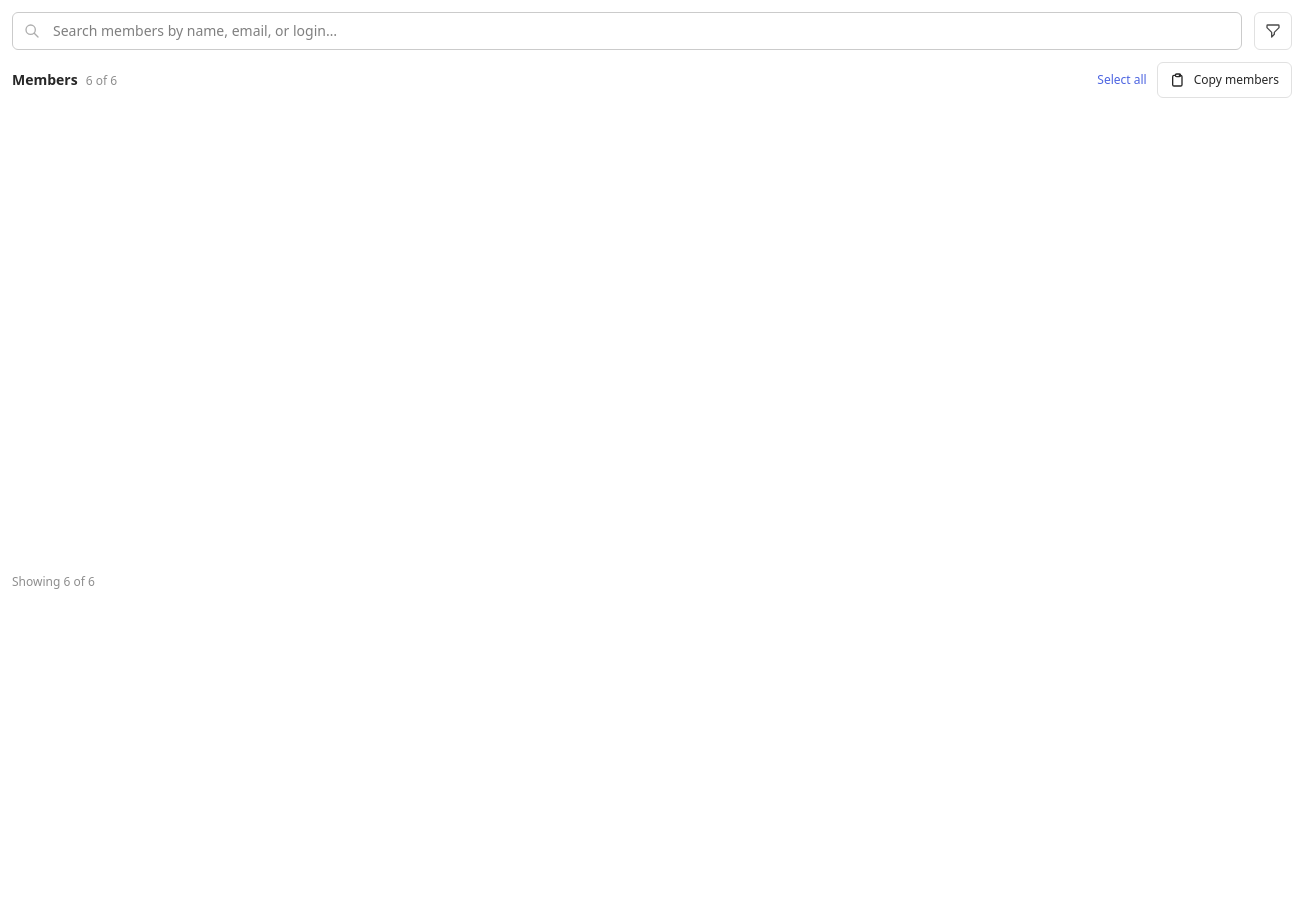
Test: MemberExplorer filtering › ORs two values of the same dimension rather than intersecting them
Click the button named "Filters" at (1273, 31), box [1254, 12, 1292, 50]
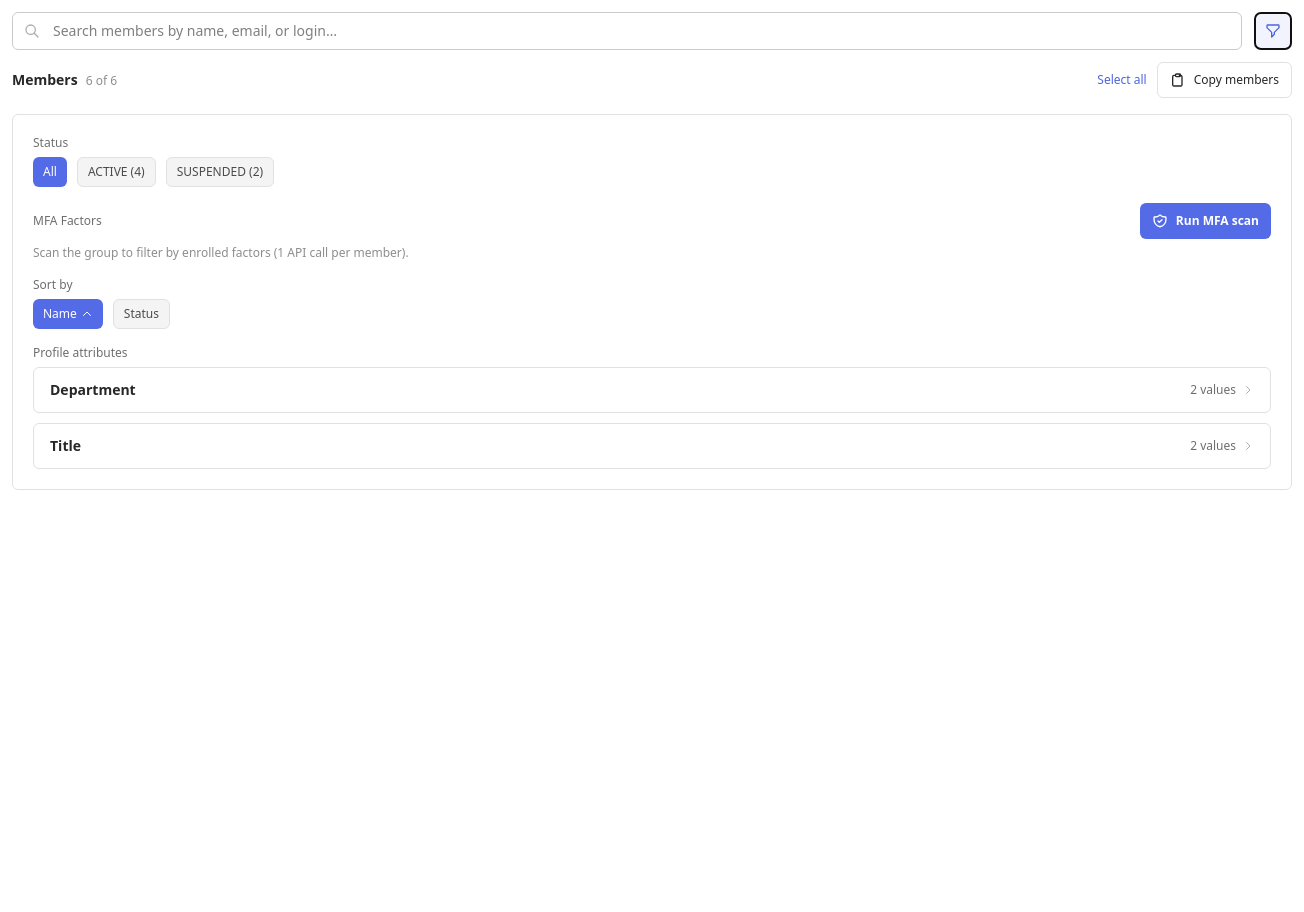
Click the button "SUSPENDED (2)" at (220, 172), box [166, 157, 274, 187]
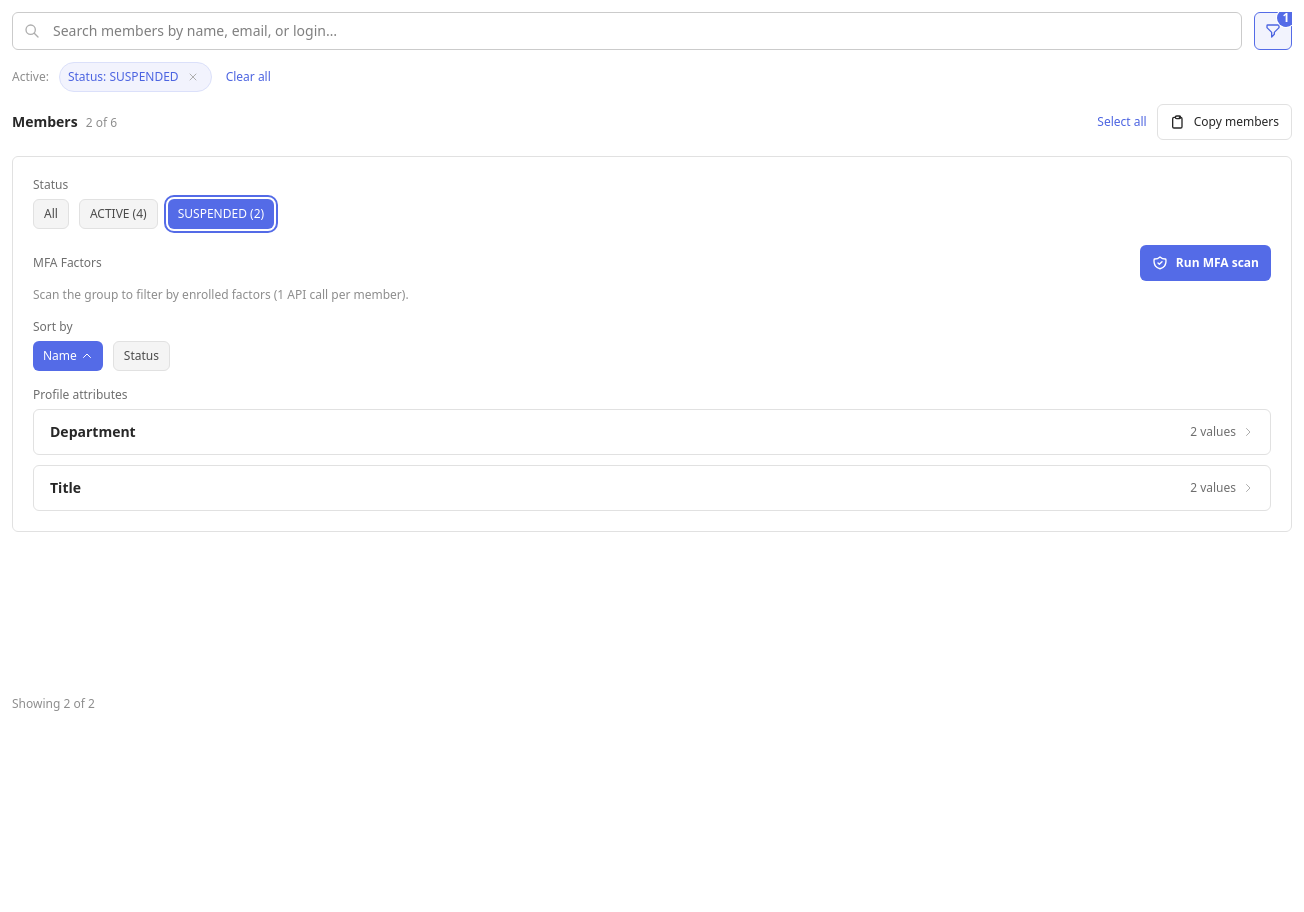
Click the button "ACTIVE (4)" at (118, 214), box [79, 199, 158, 229]
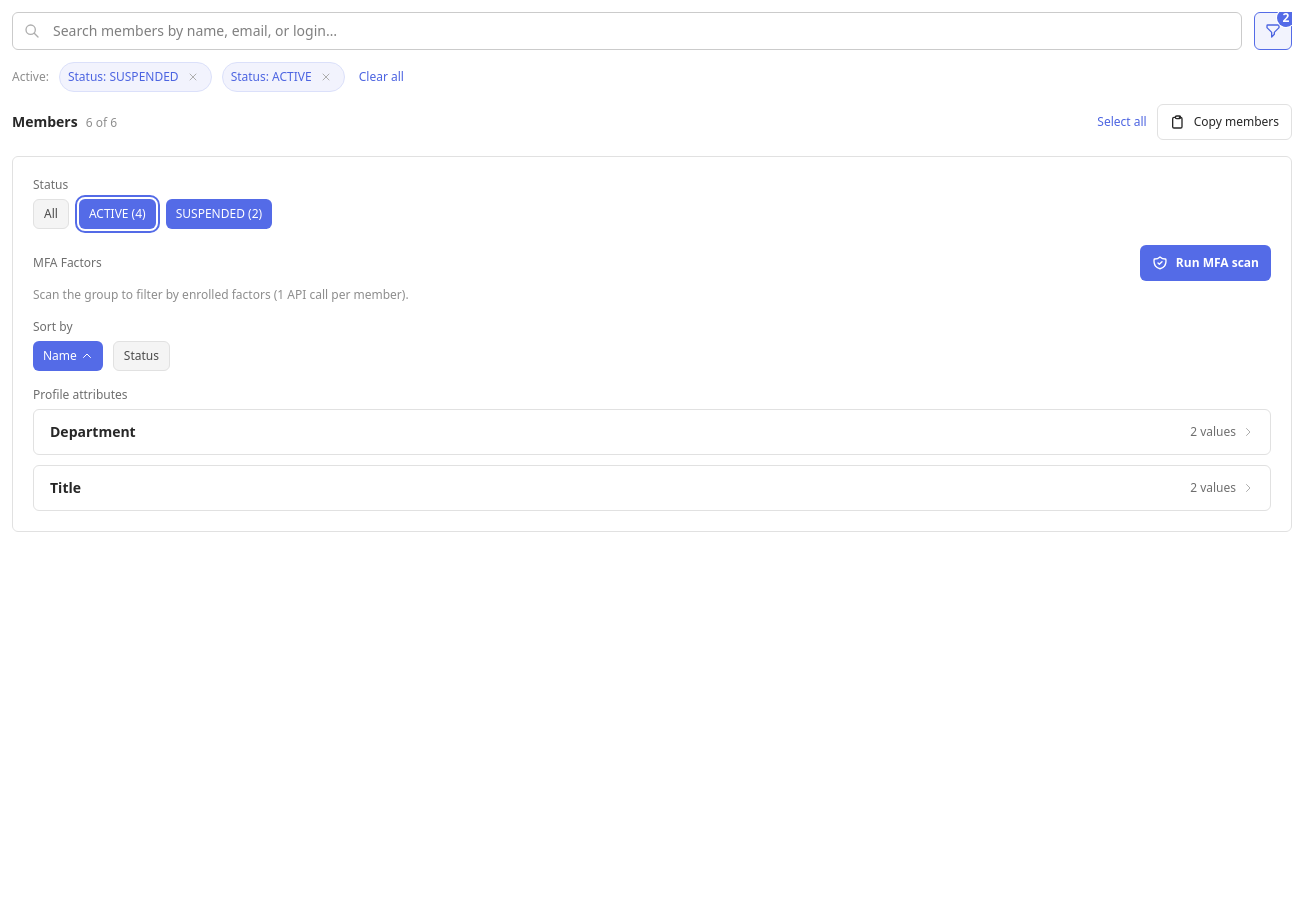
Result: the text "6 of 6" is shown at [86, 114, 117, 131]
